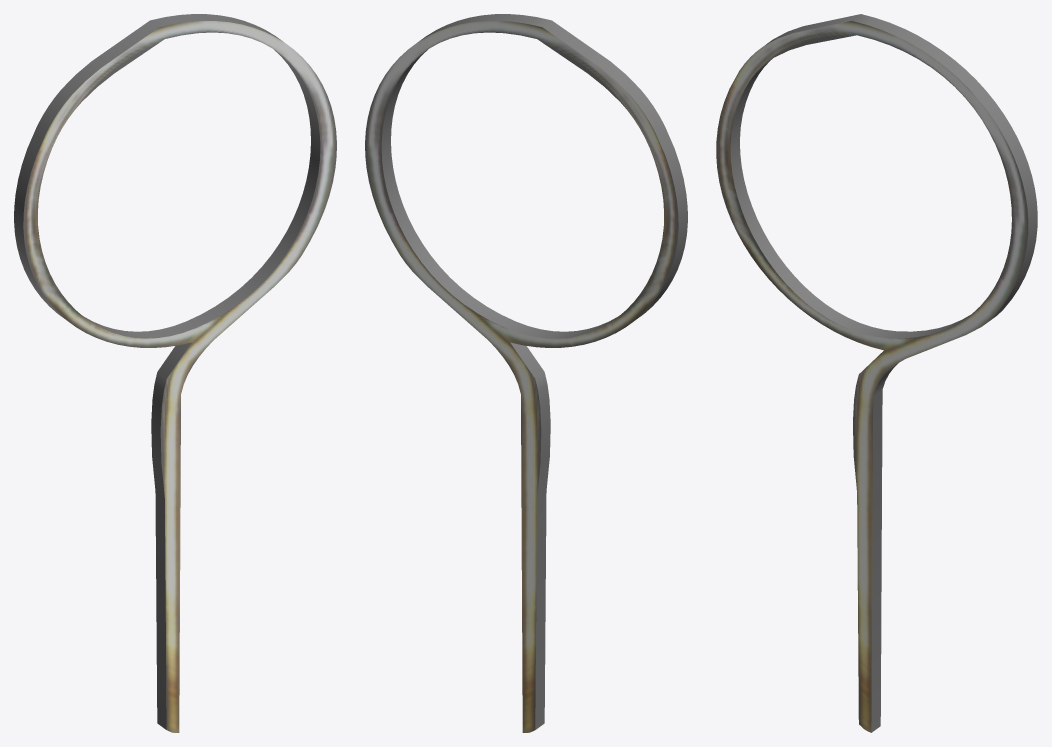
File: seguro_extintor.obj
3 renders of one model, left to right at view 1: azimuth 30°, elevation 25°; view 2: azimuth 150°, elevation 25°; view 3: azimuth 330°, elevation 25°, orthographic.
Parts seen in each view (by area): view 1: Layer 1; view 2: Layer 1; view 3: Layer 1.
Part boxes in pixels (x1,y1,x2,y2): Layer 1: (14, 14, 336, 732); Layer 1: (365, 14, 687, 732); Layer 1: (716, 14, 1037, 732).
Bounding box in the file's own units: 0.9649 × 2.09 × 0.05.
3 materials, 3 textured.
